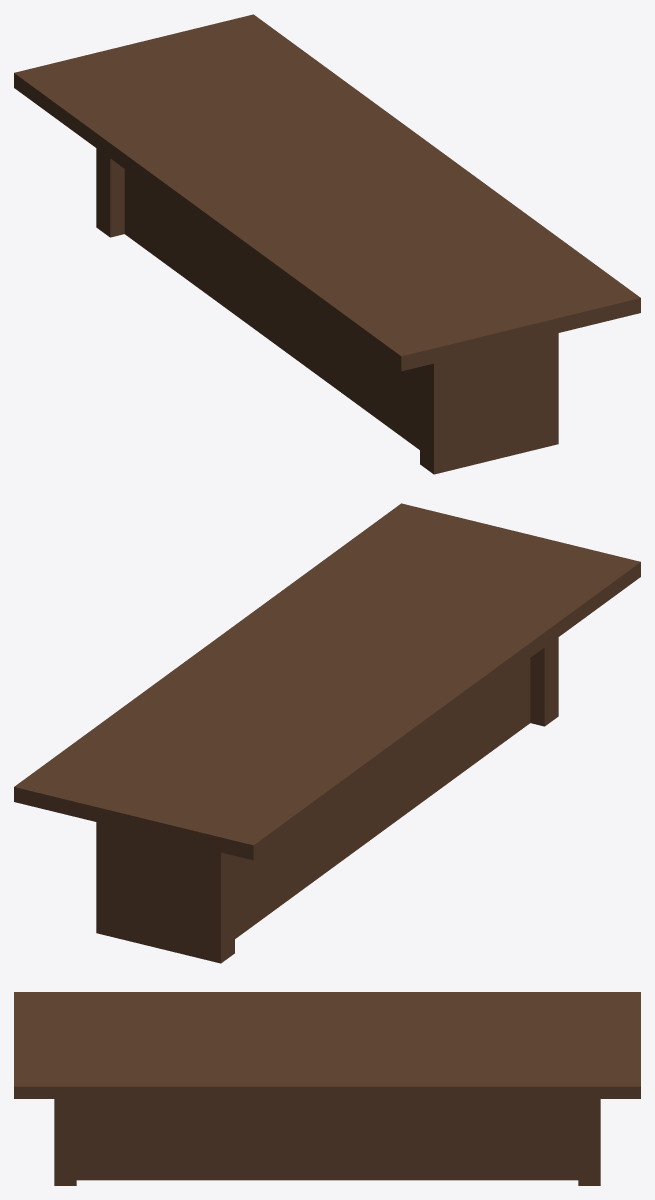
The model's file is table_meeting_01.glb.
The picture shows the model from 3 angles, top to bottom: view 1: azimuth 30°, elevation 25°; view 2: azimuth 150°, elevation 25°; view 3: azimuth 270°, elevation 25°; orthographic projection. The views are drawn at different scales.
Visible parts, largest first — view 1: Untitled; view 2: Untitled; view 3: Untitled.
Boxes of the visible parts, box(x1,y1,x2,y2) form: Untitled: box(14, 14, 640, 474); Untitled: box(14, 503, 640, 963); Untitled: box(14, 992, 640, 1185).
Size of the model in its own units: 1.5 by 0.9 by 4.2.
1 material, 1 textured.
